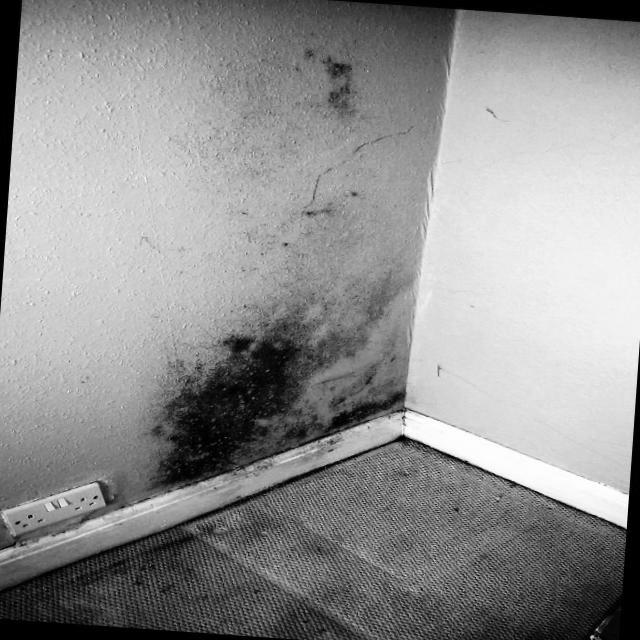stain marks: (149, 21, 413, 512)
